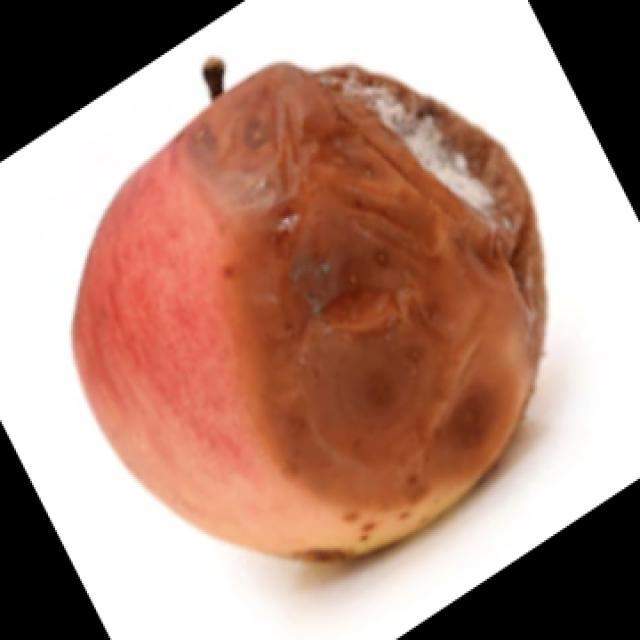Rotten: (52, 74, 548, 548)
